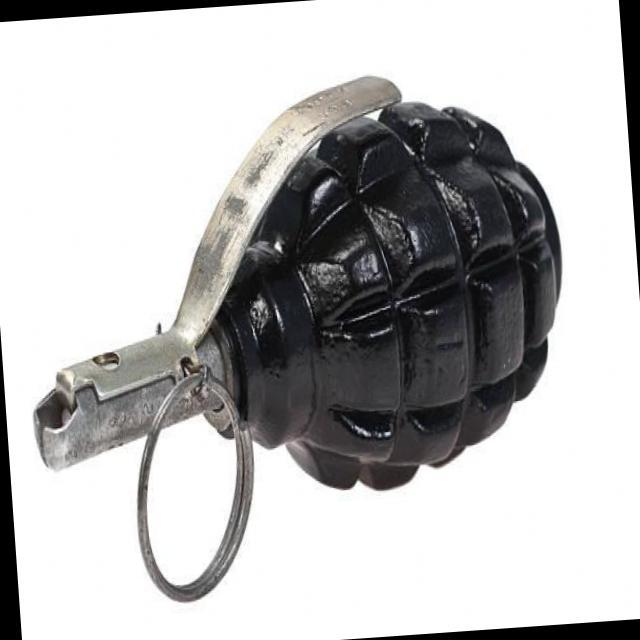grenade: (10, 66, 586, 608)
